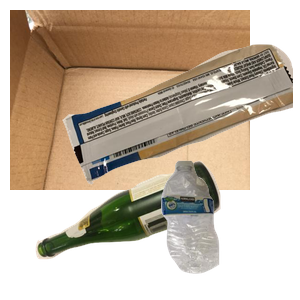cardboard: (10, 10, 250, 190)
glass: (33, 158, 246, 300)
plastic: (159, 158, 300, 300)
trash: (60, 42, 300, 219)
